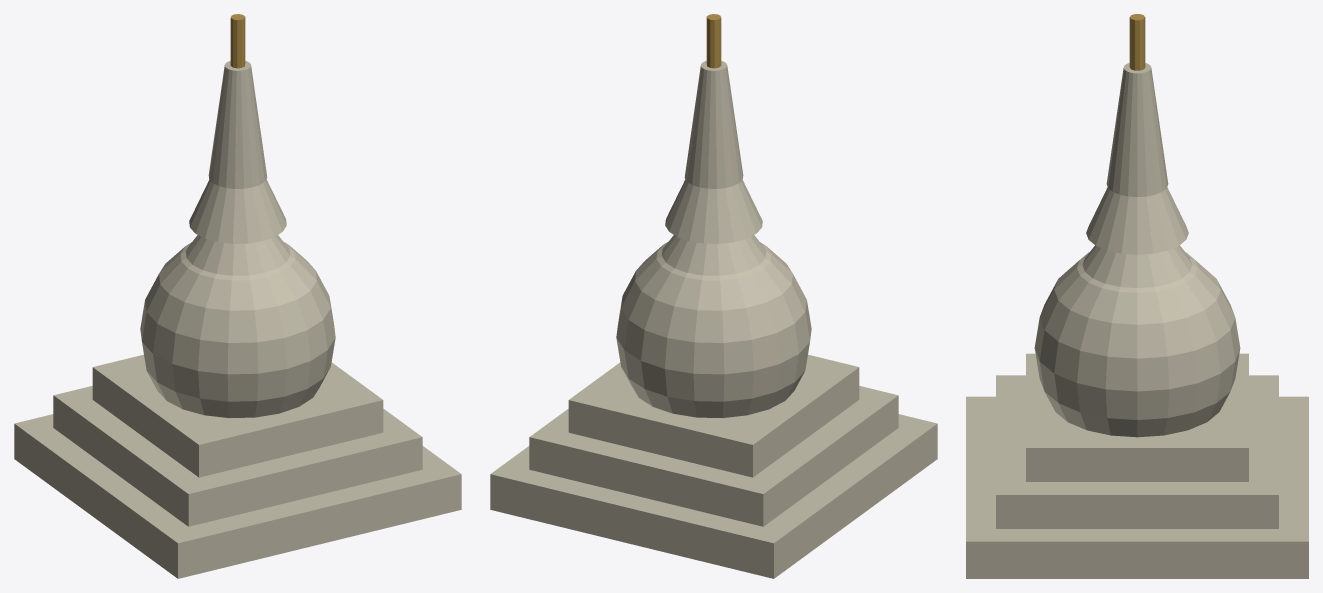
File: stupa-ultra.glb
The picture shows the model from 3 angles, left to right: view 1: azimuth 30°, elevation 25°; view 2: azimuth 150°, elevation 25°; view 3: azimuth 270°, elevation 25°; orthographic projection. The views are drawn at different scales.
Parts seen in each view (by area): view 1: stupa; view 2: stupa; view 3: stupa.
Part boxes in pixels (box(x1,y1,x2,y2)): stupa: box(14, 14, 461, 578); stupa: box(490, 14, 937, 578); stupa: box(966, 14, 1308, 578).
Bounding box in the file's own units: 2 × 3.15 × 2.
